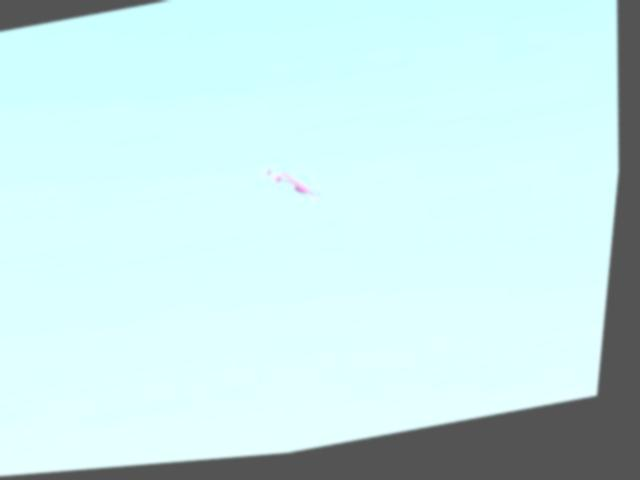uav: (260, 152, 333, 223)
